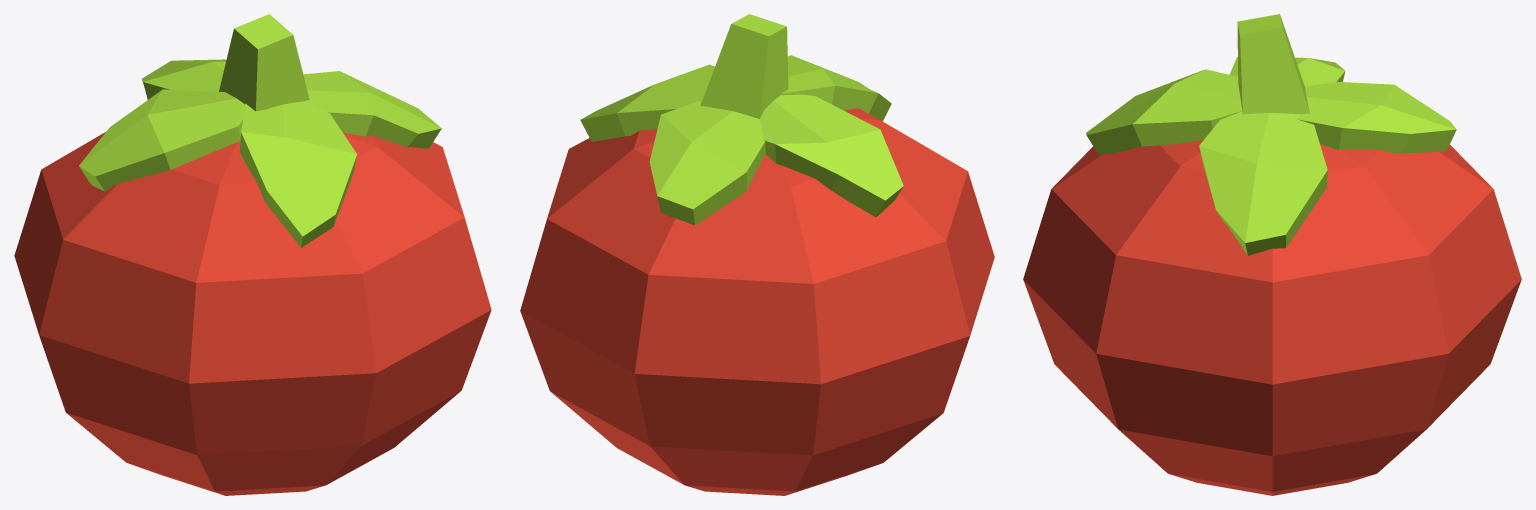
File: tomato.fbx
The picture shows the model from 3 angles, left to right: view 1: azimuth 30°, elevation 25°; view 2: azimuth 150°, elevation 25°; view 3: azimuth 270°, elevation 25°; orthographic projection.
Visible parts, largest first — view 1: Plane.004; view 2: Plane.004; view 3: Plane.004.
Boxes of the visible parts, x1,y1,x2,y2 form: Plane.004: (14,14,491,495); Plane.004: (520,14,994,495); Plane.004: (1023,14,1521,495).
Bounding box in the file's own units: 312 × 300 × 312.
